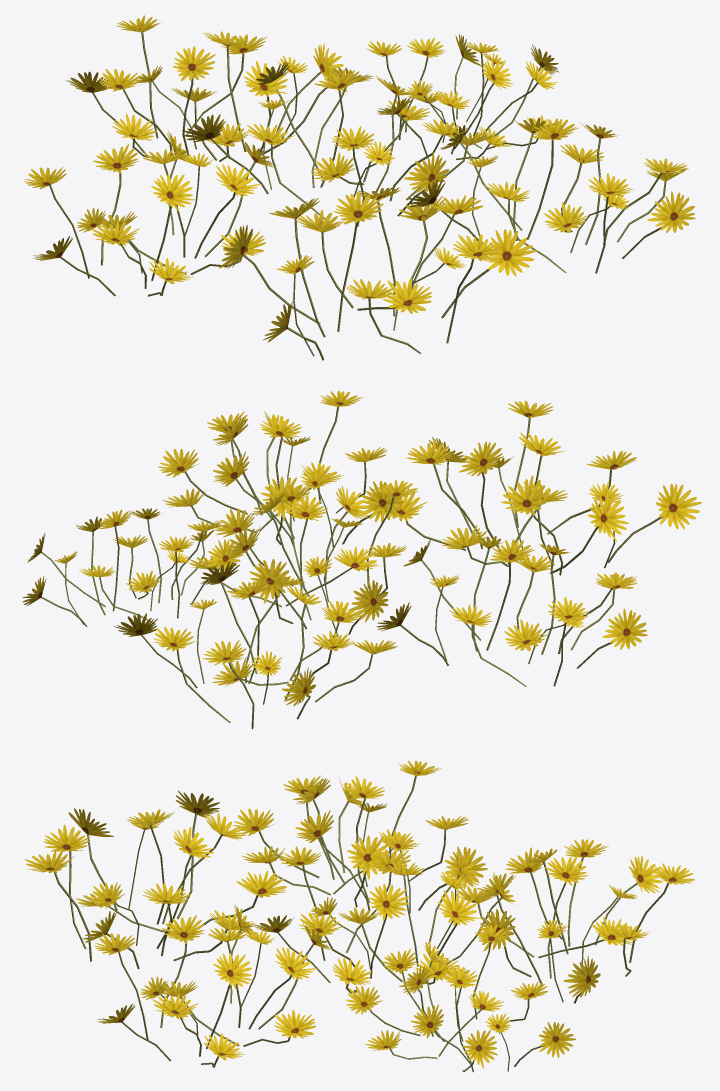
The model's file is PW_FOC_ClusterDaisyYellow_Lod_0.fbx.
The picture shows the model from 3 angles, top to bottom: view 1: azimuth 30°, elevation 25°; view 2: azimuth 150°, elevation 25°; view 3: azimuth 270°, elevation 25°; orthographic projection. The views are drawn at different scales.
Visible parts, largest first — view 1: PW_FOC_ClusterDaisyYellow_Lod_0; view 2: PW_FOC_ClusterDaisyYellow_Lod_0; view 3: PW_FOC_ClusterDaisyYellow_Lod_0.
Boxes of the visible parts, box(x1,y1,x2,y2) form: PW_FOC_ClusterDaisyYellow_Lod_0: box(23, 15, 695, 360); PW_FOC_ClusterDaisyYellow_Lod_0: box(22, 390, 702, 729); PW_FOC_ClusterDaisyYellow_Lod_0: box(25, 760, 694, 1072).
Bounding box in the file's own units: 1.76 × 0.3932 × 1.87.
